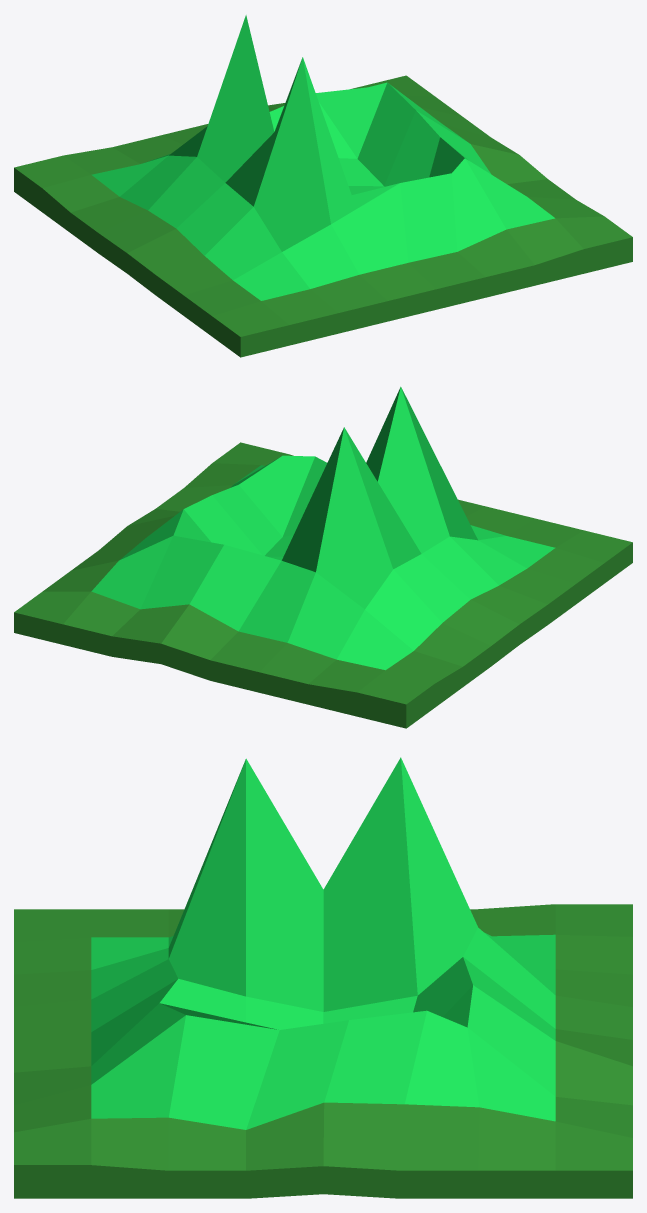
Rendered from Mountain_T2.fbx.
3 renders of one model, top to bottom at view 1: azimuth 30°, elevation 25°; view 2: azimuth 150°, elevation 25°; view 3: azimuth 270°, elevation 25°, orthographic. The views are drawn at different scales.
Parts seen in each view (by area): view 1: Mountain_T2; view 2: Mountain_T2; view 3: Mountain_T2.
Part boxes in pixels (x1,y1,x2,y2): Mountain_T2: [14, 15, 632, 357]; Mountain_T2: [14, 386, 632, 728]; Mountain_T2: [14, 757, 632, 1198].
Size of the model in its own units: 200 by 99.16 by 200.
